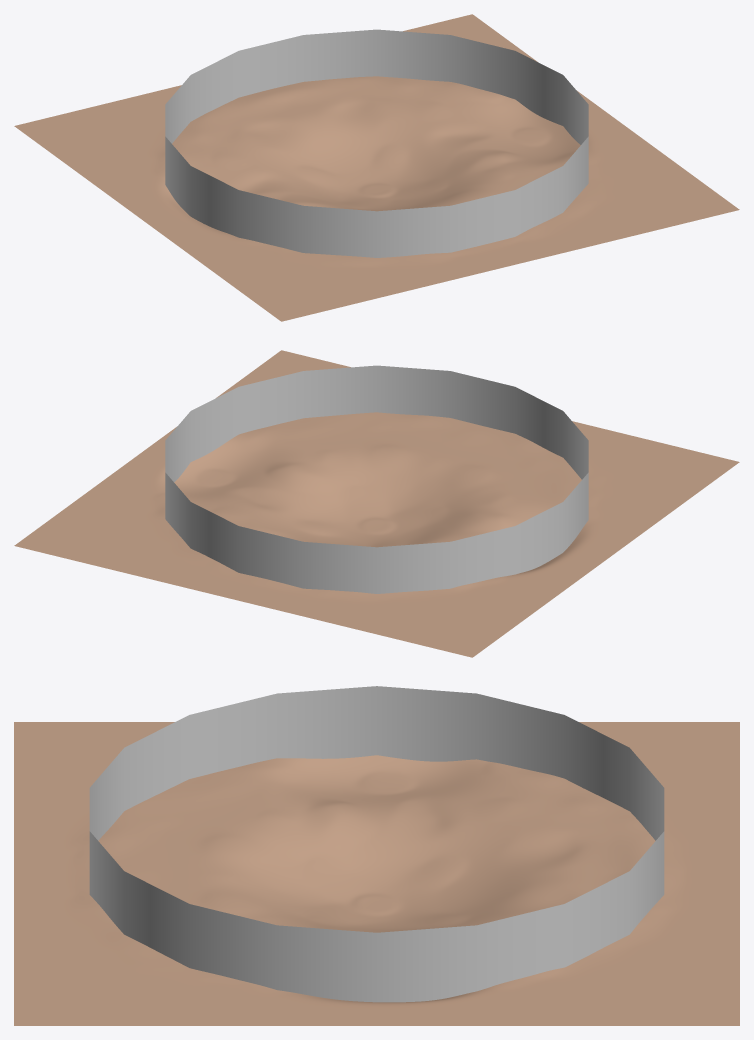
Rendered from Arena2.FBX.
3 renders of one model, top to bottom at view 1: azimuth 30°, elevation 25°; view 2: azimuth 150°, elevation 25°; view 3: azimuth 270°, elevation 25°, orthographic. The views are drawn at different scales.
Parts seen in each view (by area): view 1: Plane001, Cylinder001; view 2: Plane001, Cylinder001; view 3: Plane001, Cylinder001.
Boxes of the visible parts, x1,y1,x2,y2 form: Plane001: (14,14,739,321); Cylinder001: (165,29,588,257); Plane001: (14,350,739,657); Cylinder001: (165,365,588,593); Plane001: (14,722,739,1025); Cylinder001: (89,686,664,1002).
Size of the model in its own units: 2970 by 3000 by 437.
